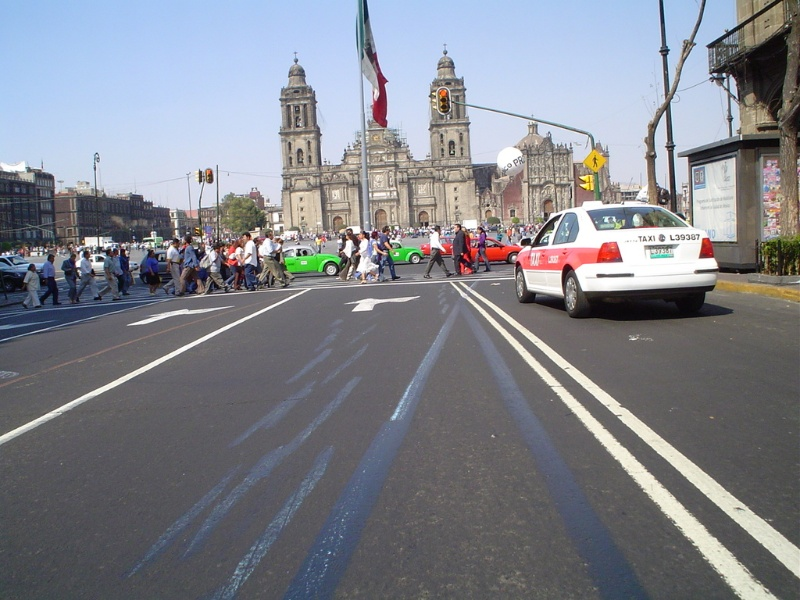pedestrian_crossing_ahead: (580, 149, 609, 173)
red_light: (435, 85, 451, 98)
